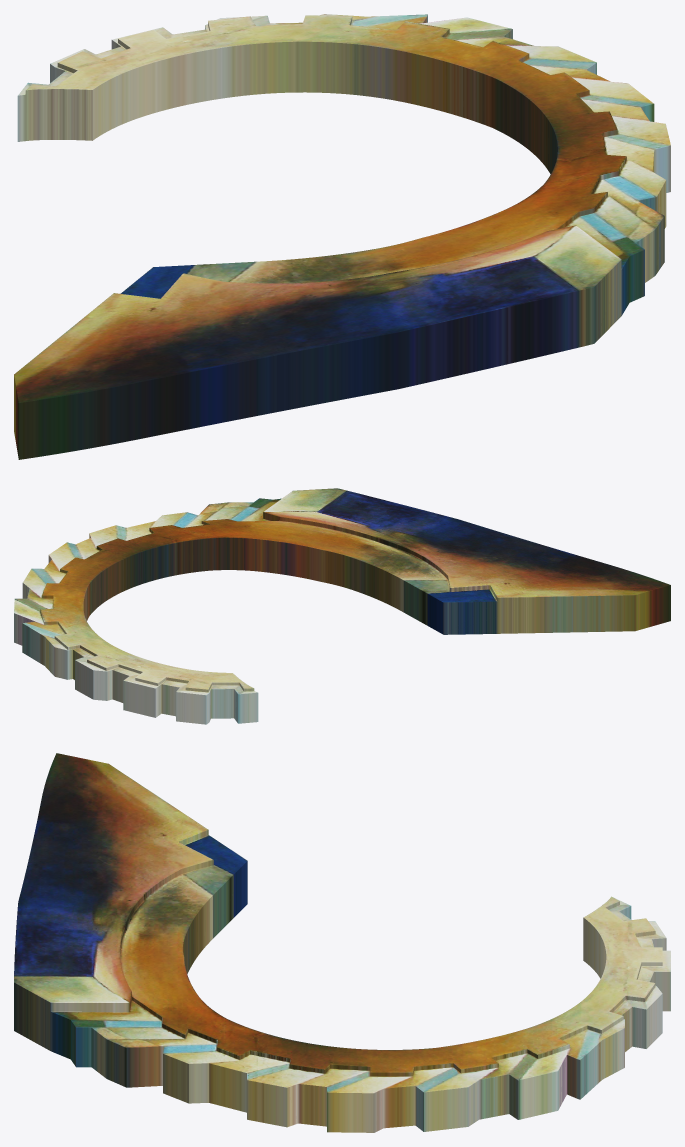
File: sin titulo odontologia 5.dae
3 renders of one model, top to bottom at view 1: azimuth 30°, elevation 25°; view 2: azimuth 150°, elevation 25°; view 3: azimuth 270°, elevation 25°, orthographic. The views are drawn at different scales.
Visible parts, largest first — view 1: SketchUp; view 2: SketchUp; view 3: SketchUp.
Part boxes in pixels (x1=…): SketchUp: x1=14, y1=14, x2=670, y2=459; SketchUp: x1=14, y1=488, x2=670, y2=724; SketchUp: x1=14, y1=753, x2=670, y2=1132.
Size of the model in its own units: 95.32 by 79.86 by 6.5.
1 material, 1 textured.
